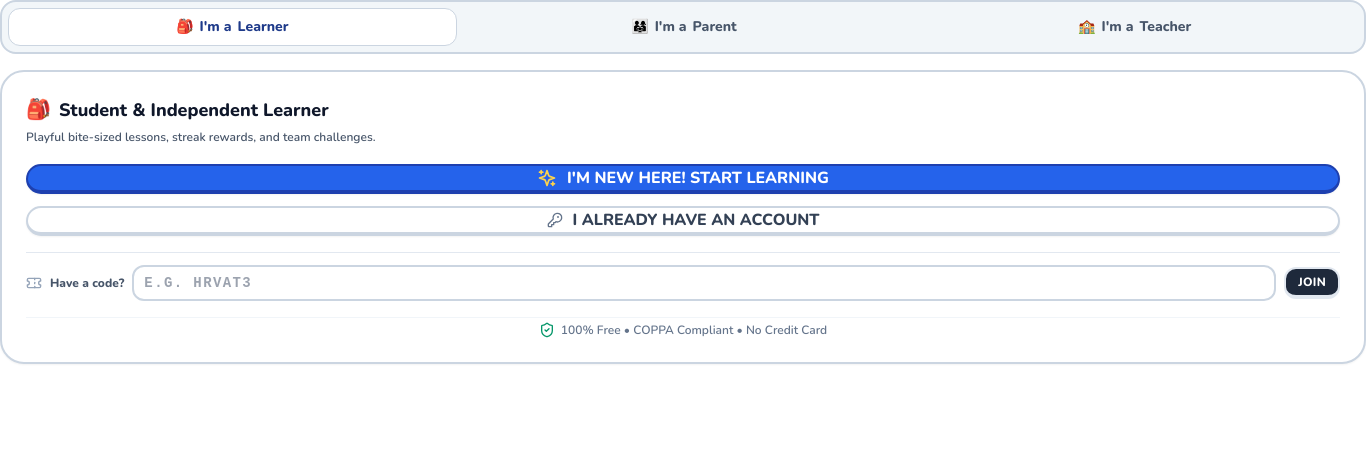
Test case: <RoleOnboardingHero /> CR-075 Role-Aware Landing Page Hero Tests › Signed-Out Mode & Role Chooser › updates active join code when student enters code into inline form
The image size is (1366, 457).
Note: Enter code "zgomba"
In the field with placeholder "e.g. HRVAT3": [704, 282] box [132,264,1276,300], type "zgomba"
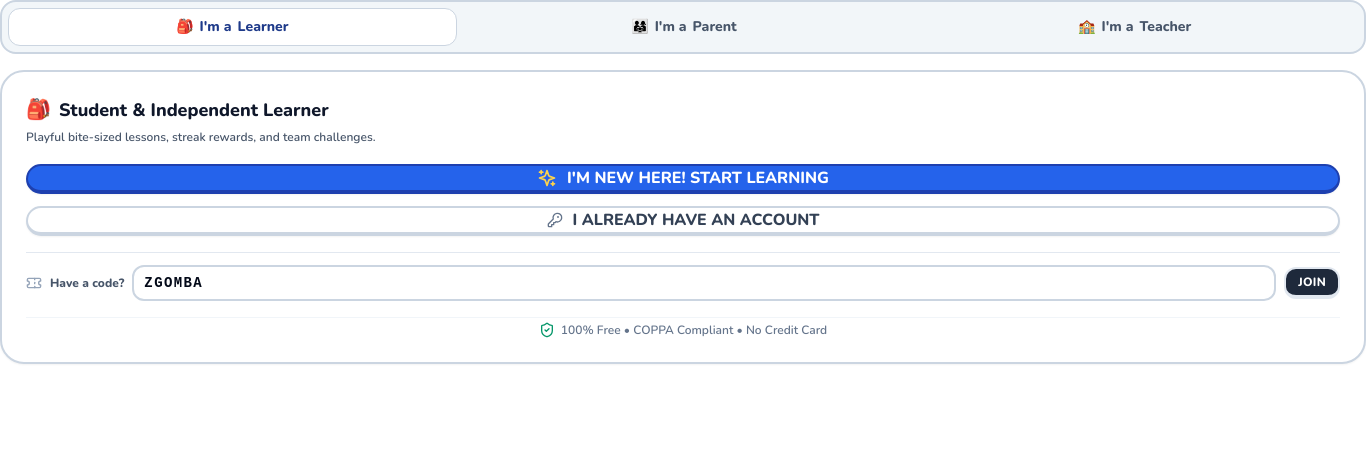
Click the button "Join": [1312, 282] box [1284,266,1340,298]
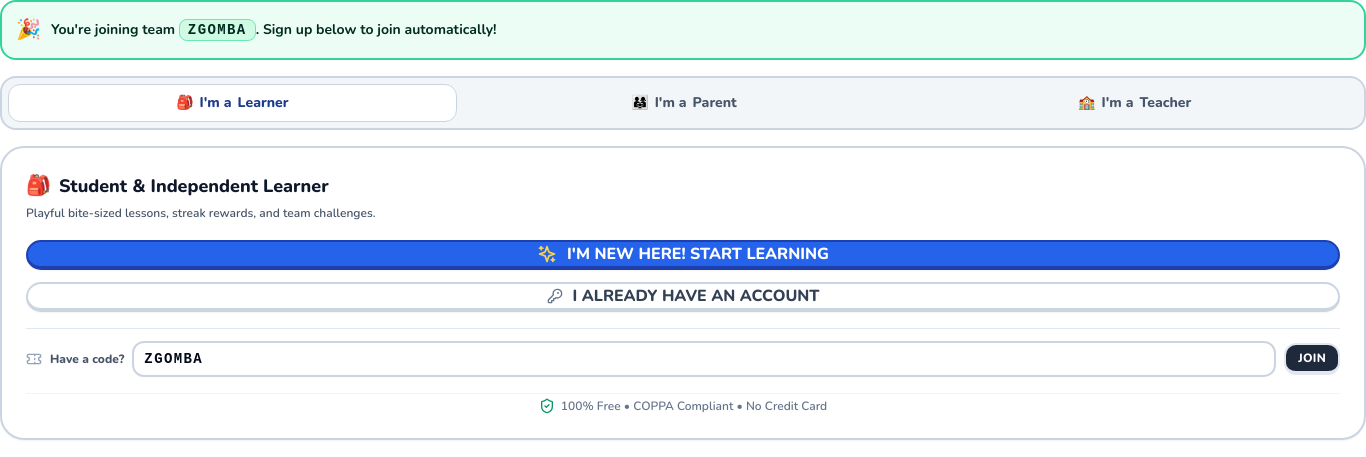
Expected: the text "ZGOMBA" is shown, [179,19,256,41]
